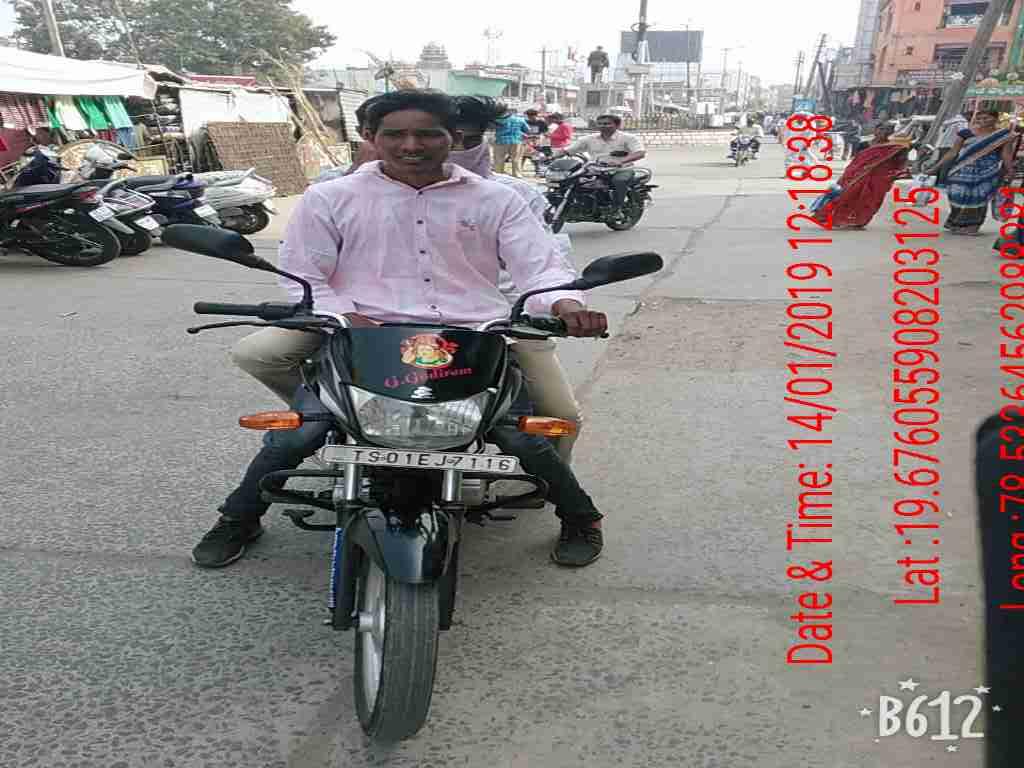plate: (314, 440, 521, 479), (81, 202, 120, 225)
